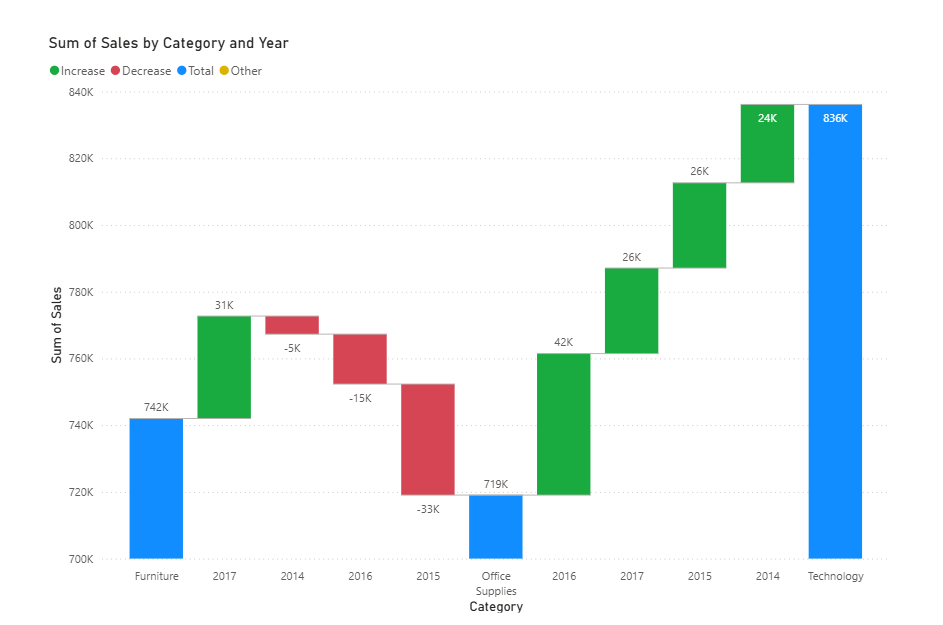

The dashboard page shown, as its layout file describes it:
{"tool":"powerbi","page":{"name":"Q4","canvas":[1280,720],"ordinal":3},"visuals":[{"type":"waterfallChart","fields":{"Category":["Orders.Category"],"Y":["Sum(Orders.Sales)"],"Breakdown":["DateTable.Year"]},"box":[234.3,60.5,922.2,633.1],"z":0}]}

Visuals, with their boxes on the page's 1280x720 design canvas (x1, y1, x2, y2). These are canvas units, not pixel positions in the 943x625 screenshot, which may show the page scaled, cropped or inside an application window:
waterfallChart - Orders.Category x Sum(Orders.Sales): 234 60 1156 694
